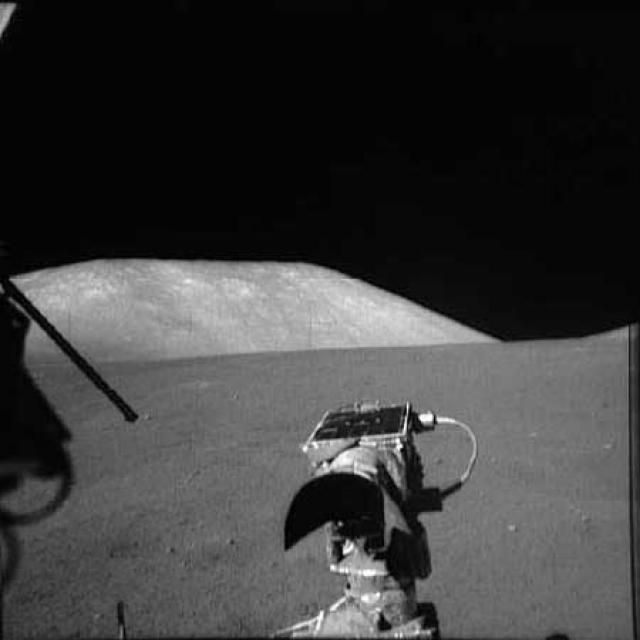artifact: (0, 258, 162, 598), (271, 396, 495, 639)
